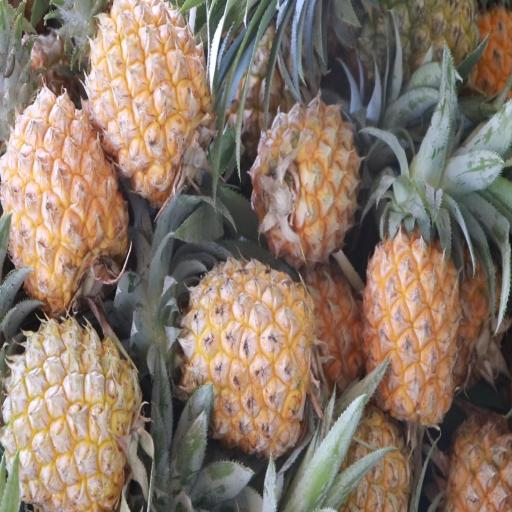Pineapple - v8 v1: (0, 92, 127, 309), (4, 321, 138, 512), (88, 2, 215, 196), (183, 262, 313, 450), (362, 228, 460, 429), (251, 98, 357, 262)
